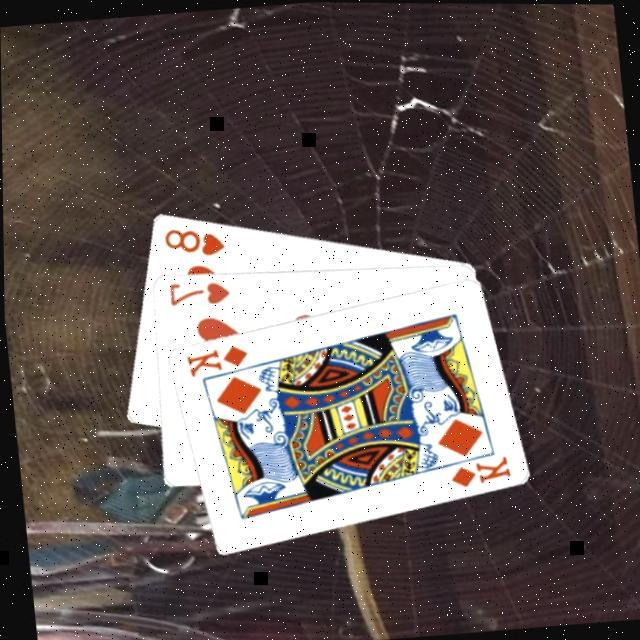7H: (165, 275, 233, 311)
8H: (160, 221, 228, 263)
KD: (181, 341, 252, 381), (445, 452, 514, 492)
